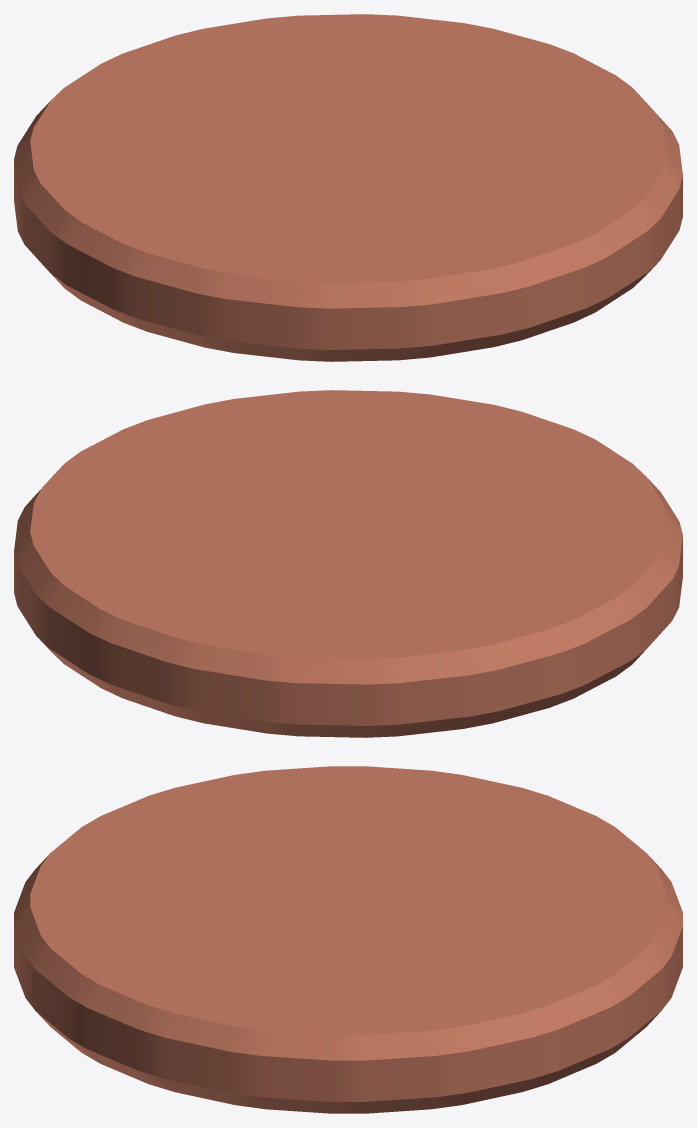
Rendered from BurgerPattyCooking.fbx.
3 renders of one model, top to bottom at view 1: azimuth 30°, elevation 25°; view 2: azimuth 150°, elevation 25°; view 3: azimuth 270°, elevation 25°, orthographic.
Parts seen in each view (by area): view 1: pCylinder1; view 2: pCylinder1; view 3: pCylinder1.
Part boxes in pixels (x1,y1,x2,y2): pCylinder1: (14, 14, 682, 361); pCylinder1: (14, 390, 682, 737); pCylinder1: (14, 766, 682, 1113).
Bounding box in the file's own units: 5.35 × 0.6937 × 5.35.
